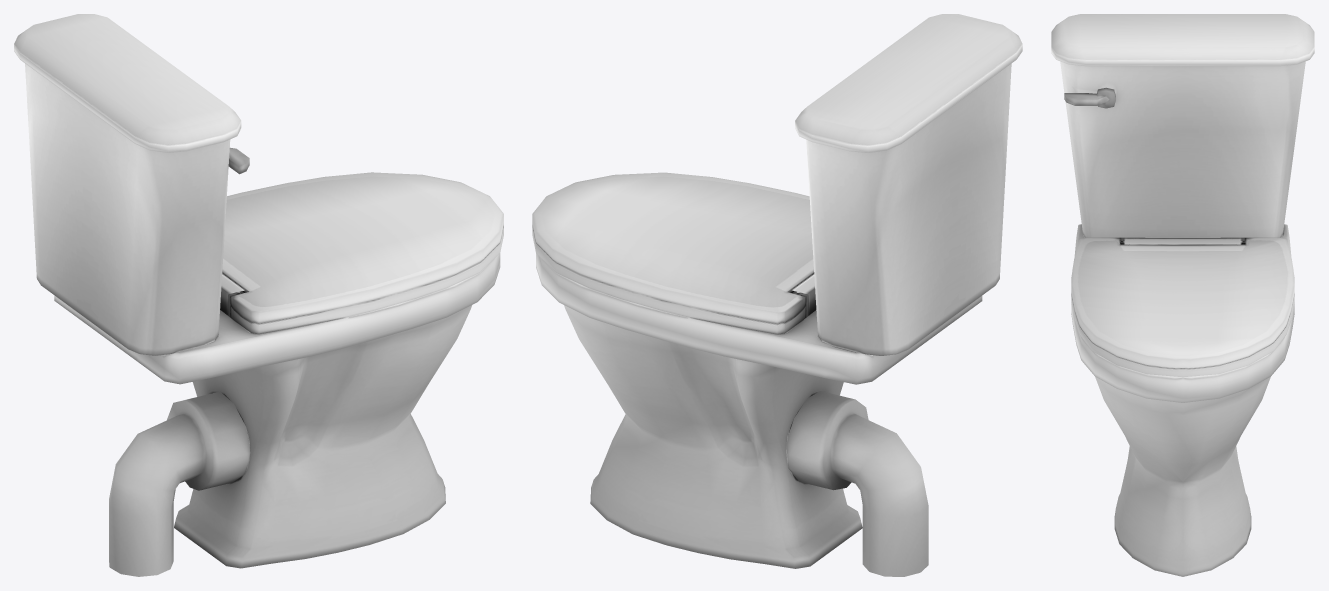
File: commode1.glb
3 views of the same model, side by side, from view 1: azimuth 30°, elevation 25°; view 2: azimuth 150°, elevation 25°; view 3: azimuth 270°, elevation 25° (orthographic). The views are drawn at different scales.
Visible parts, largest first — view 1: Object_6; view 2: Object_6; view 3: Object_6.
Part boxes in pixels (x1,y1,x2,y2): Object_6: (14,14,503,576); Object_6: (532,14,1022,576); Object_6: (1051,14,1314,576).
Size of the model in its own units: 0.7764 by 0.8891 by 0.5085.
Materials: 1 (1 with a texture image).
